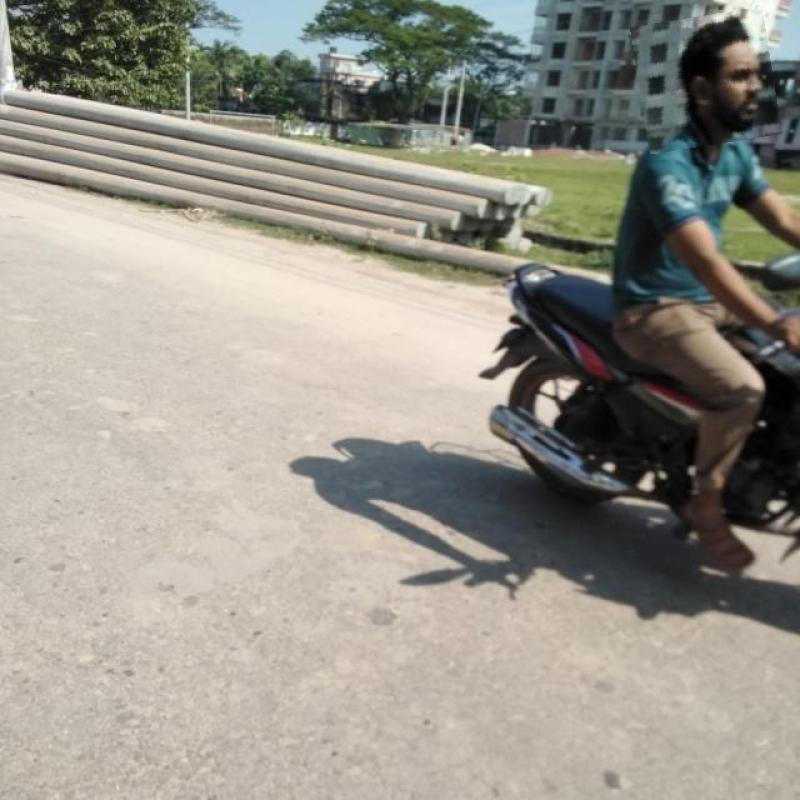nohelmet: (634, 11, 778, 150)
